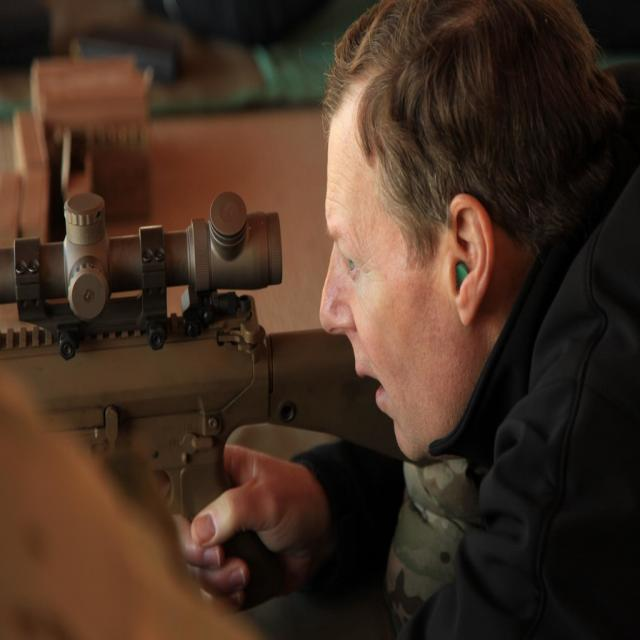weapon: (0, 194, 414, 604)
